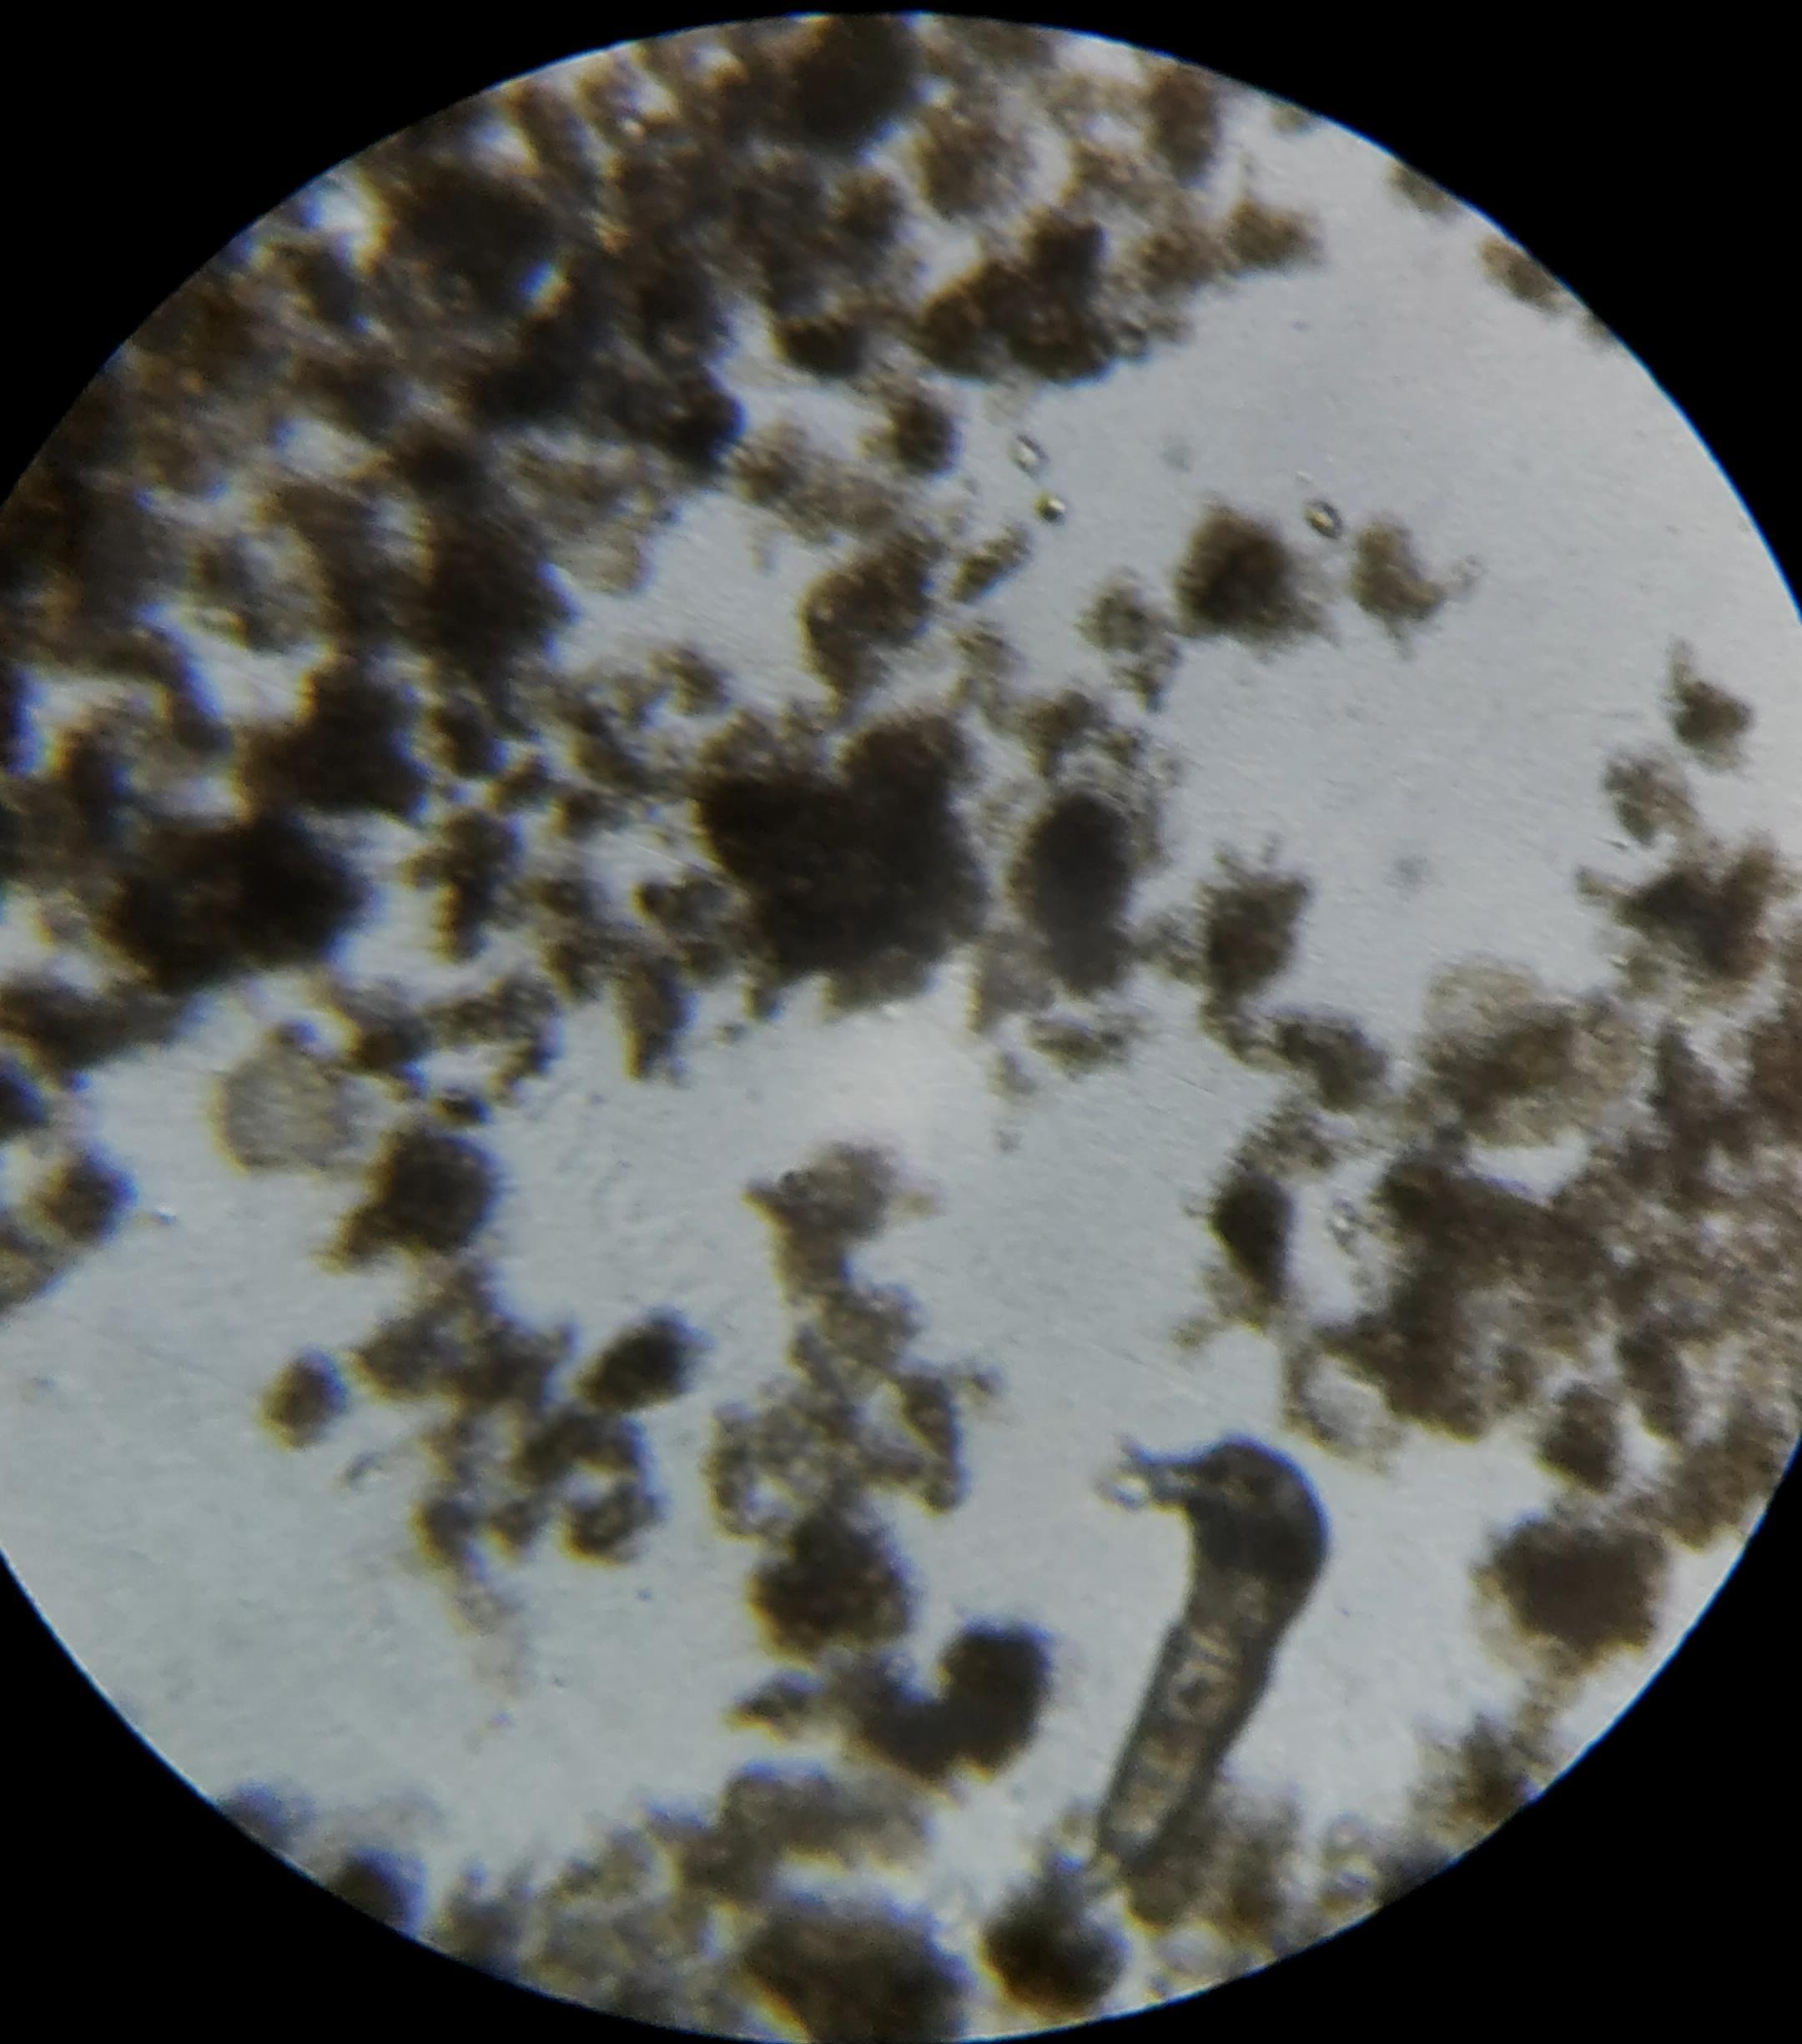Do: (1061, 1433, 1325, 1901)
